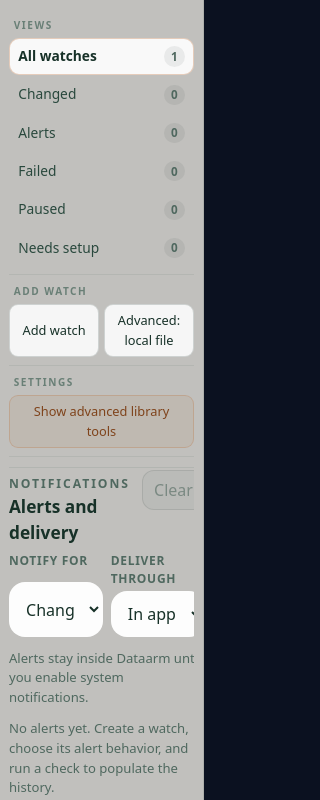
it: NavSidebar › enables workspace controls when there is no current workspace path to compare against
Click the button "Show advanced library tools" at (102, 422), box [9, 395, 194, 448]
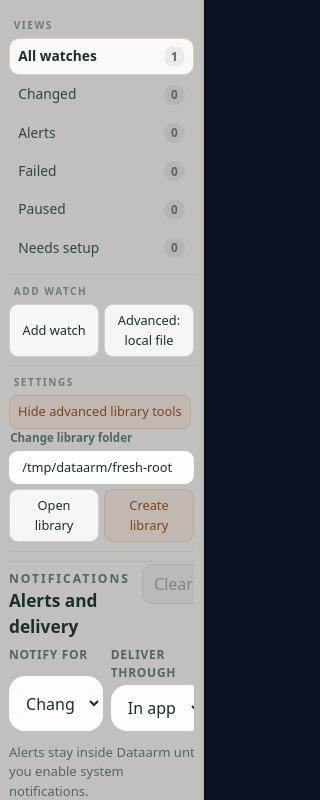
Now the button "Open library" is enabled, box [9, 489, 99, 542]
Now the button "Create library" is enabled, box [104, 489, 194, 542]
